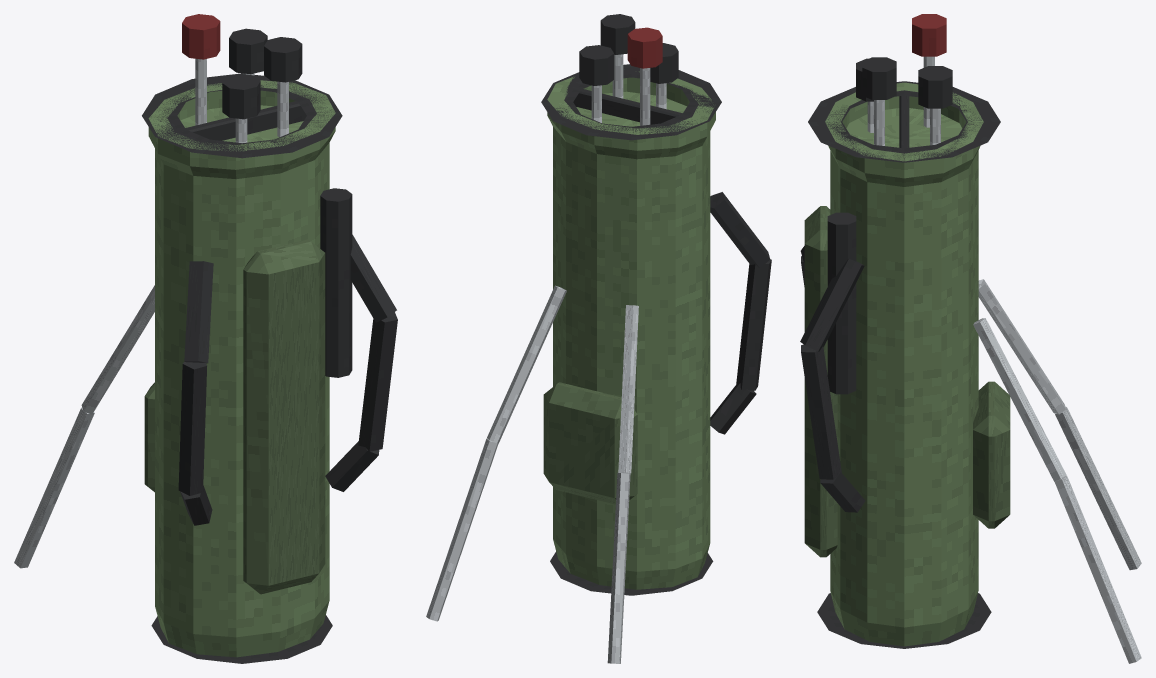
Rendered from golf_bag.glb.
3 views of the same model, side by side, from view 1: azimuth 30°, elevation 25°; view 2: azimuth 150°, elevation 25°; view 3: azimuth 270°, elevation 25° (orthographic). The views are drawn at different scales.
Visible parts, largest first — view 1: block_canvas bag tube, block_long apparel pocket, block_backpack strap 1 (×2), block_club grip cover (×4), block_umbrella slot, block_backpack strap 0 (×2), block_fold-out stand leg 1, block_backpack strap 2 (×2), block_fold-out stand leg 0, block_top divider, block_club shaft (×2), block_ball pocket (+4 smaller); view 2: block_canvas bag tube, block_ball pocket, block_fold-out stand leg 1 (×2), block_fold-out stand leg 0 (×2), block_club grip cover (×4), block_backpack strap 1, block_backpack strap 0, block_top divider, block_backpack strap 2, block_club shaft; view 3: block_canvas bag tube, block_long apparel pocket, block_fold-out stand leg 1 (×2), block_ball pocket, block_fold-out stand leg 0 (×2), block_club grip cover (×3), block_umbrella slot, block_backpack strap 1, block_backpack strap 0, block_backpack strap 2, block_top divider, block_molded top cuff 2 (+1 smaller).
Part boxes in pixels (x1=…): block_canvas bag tube: x1=148, y1=80, x2=335, y2=657; block_long apparel pocket: x1=243, y1=239, x2=325, y2=594; block_backpack strap 1 (×2): x1=178, y1=312, x2=397, y2=495; block_club grip cover (×4): x1=182, y1=14, x2=302, y2=119; block_umbrella slot: x1=320, y1=188, x2=352, y2=377; block_backpack strap 0 (×2): x1=184, y1=234, x2=396, y2=363; block_fold-out stand leg 1: x1=14, y1=407, x2=94, y2=568; block_backpack strap 2 (×2): x1=180, y1=441, x2=379, y2=525; block_fold-out stand leg 0: x1=81, y1=285, x2=154, y2=414; block_top divider: x1=177, y1=99, x2=307, y2=140; block_club shaft (×2): x1=195, y1=58, x2=288, y2=137; block_ball pocket: x1=144, y1=382, x2=154, y2=492; block_canvas bag tube: x1=547, y1=71, x2=715, y2=589; block_ball pocket: x1=543, y1=382, x2=637, y2=504; block_fold-out stand leg 1 (×2): x1=426, y1=438, x2=630, y2=663; block_fold-out stand leg 0 (×2): x1=487, y1=285, x2=638, y2=473; block_club grip cover (×4): x1=579, y1=14, x2=678, y2=85; block_backpack strap 1: x1=736, y1=259, x2=771, y2=390; block_backpack strap 0: x1=710, y1=192, x2=770, y2=268; block_top divider: x1=571, y1=87, x2=690, y2=124; block_backpack strap 2: x1=710, y1=383, x2=756, y2=434; block_club shaft: x1=640, y1=68, x2=650, y2=125; block_canvas bag tube: x1=825, y1=82, x2=983, y2=646; block_long apparel pocket: x1=804, y1=206, x2=837, y2=557; block_fold-out stand leg 1 (×2): x1=1054, y1=406, x2=1141, y2=663; block_ball pocket: x1=973, y1=381, x2=1010, y2=528; block_fold-out stand leg 0 (×2): x1=973, y1=279, x2=1066, y2=481; block_club grip cover (×3): x1=862, y1=14, x2=952, y2=108; block_umbrella slot: x1=827, y1=212, x2=856, y2=394; block_backpack strap 1: x1=801, y1=344, x2=841, y2=479; block_backpack strap 0: x1=800, y1=258, x2=864, y2=351; block_backpack strap 2: x1=820, y1=471, x2=865, y2=512; block_top divider: x1=899, y1=93, x2=909, y2=152; block_molded top cuff 2: x1=808, y1=122, x2=849, y2=142.
Size of the model in its own units: 0.2683 by 0.722 by 0.3847.
2 materials, 2 textured.
